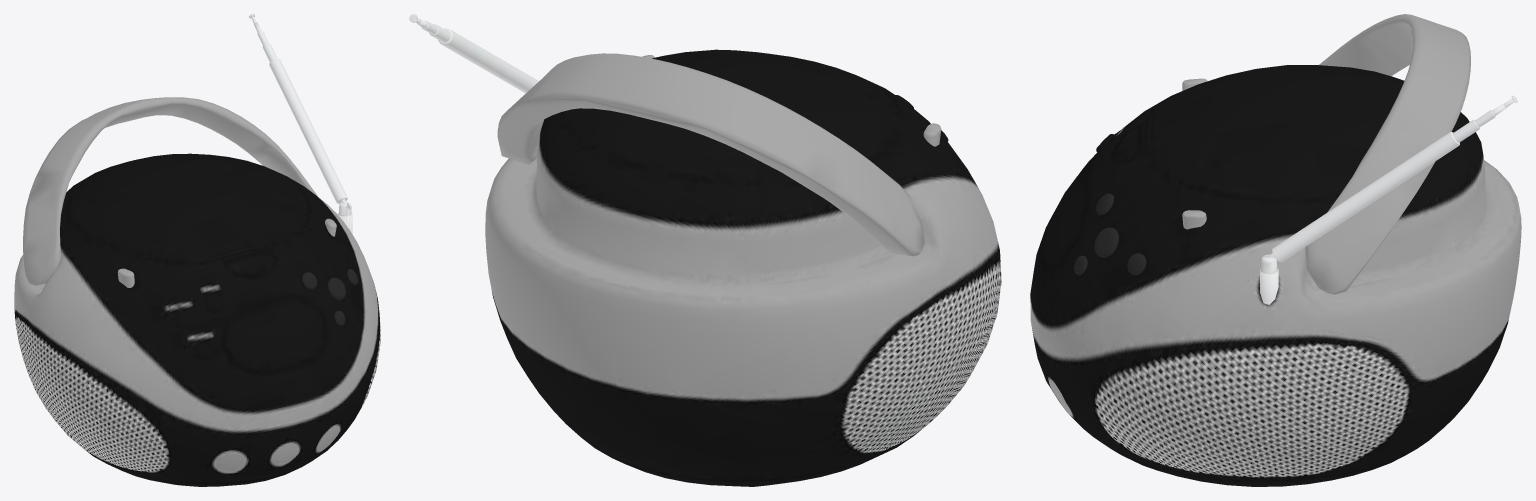
The model's file is BoomBox.opt.glb.
3 views of the same model, side by side, from view 1: azimuth 30°, elevation 25°; view 2: azimuth 150°, elevation 25°; view 3: azimuth 270°, elevation 25° (orthographic). The views are drawn at different scales.
Visible parts, largest first — view 1: BoomBox; view 2: BoomBox; view 3: BoomBox.
Boxes of the visible parts, x1,y1,x2,y2 form: BoomBox: (14, 14, 380, 486); BoomBox: (409, 14, 1001, 486); BoomBox: (1030, 14, 1521, 486).
Bounding box in the file's own units: 0.0198 × 0.0195 × 0.0202.
Materials: 1 (1 with a texture image).
